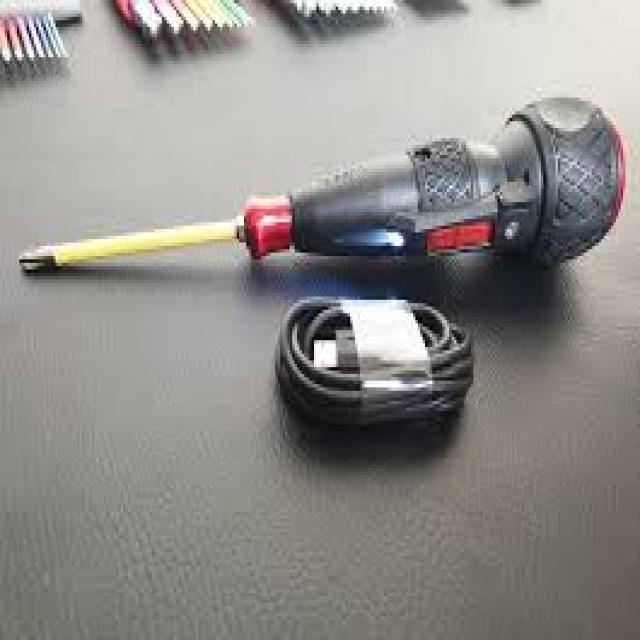screwdriver: (18, 91, 627, 283)
